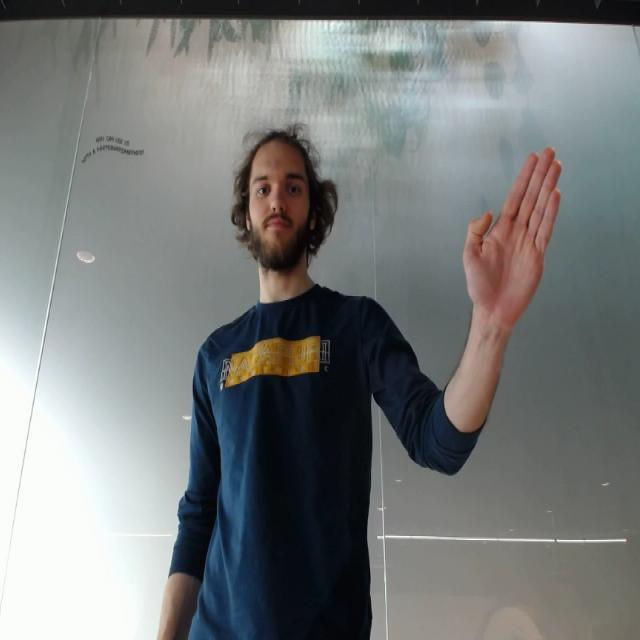backward: (460, 139, 569, 336)
